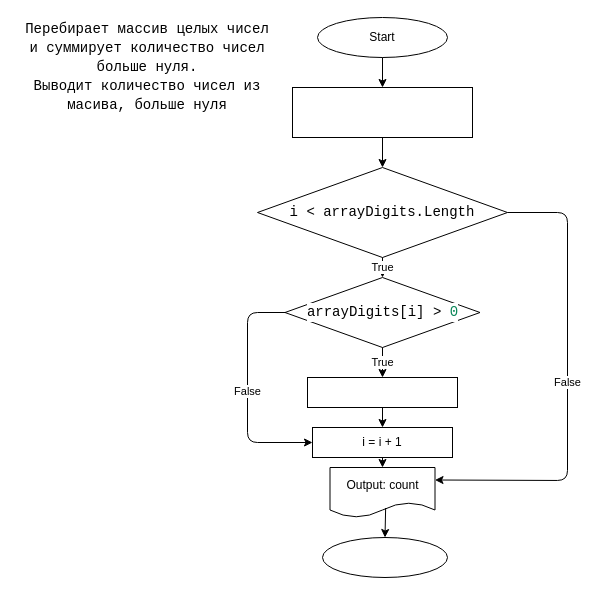
The diagram is 598 pixels wide and 595 high, and some of its shapes have lost their labels. Each missing label, with the centre of its shape:
"count = count + 1" belongs at [382,392].
"End" belongs at [385,557].
"int [] arrayDigits count = 0" belongs at [382,112].
